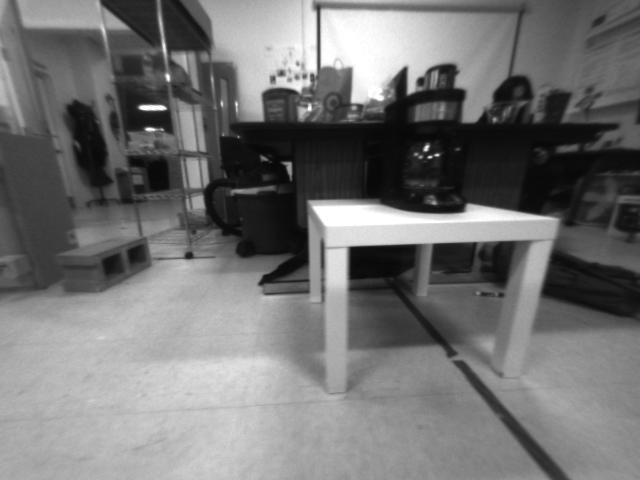coffee_pot: (378, 91, 471, 212)
